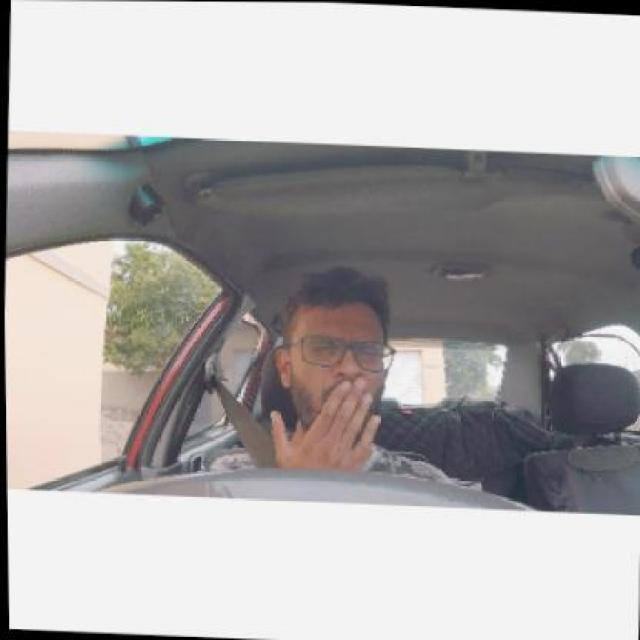drowsy: (270, 278, 395, 444)
